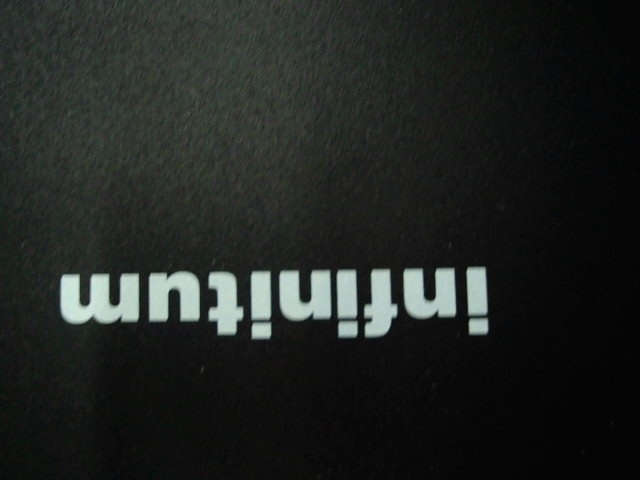BK_infinitum: (45, 252, 501, 354)
